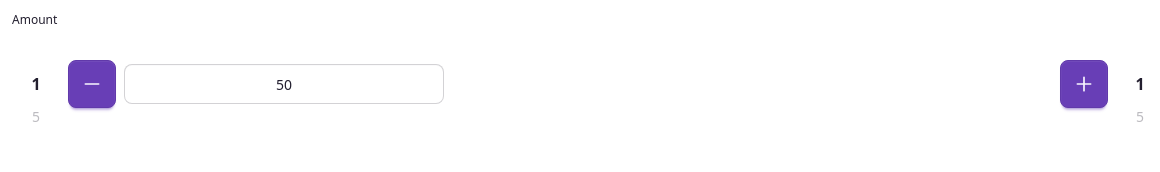
Test case: NumberStepper › clamps typed value to min on blur
// Type a value below min
Replace the text in the number field with "25" at (284, 84), box [124,64,444,104]
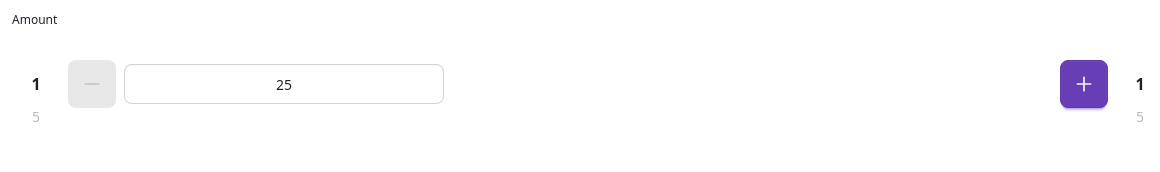
// Blur the input - this should clamp to min
Leave the number field, box [124,64,444,104]
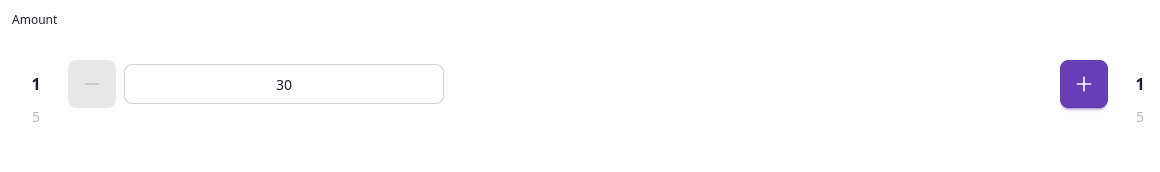
Now the number field holds "30", box [124,64,444,104]
